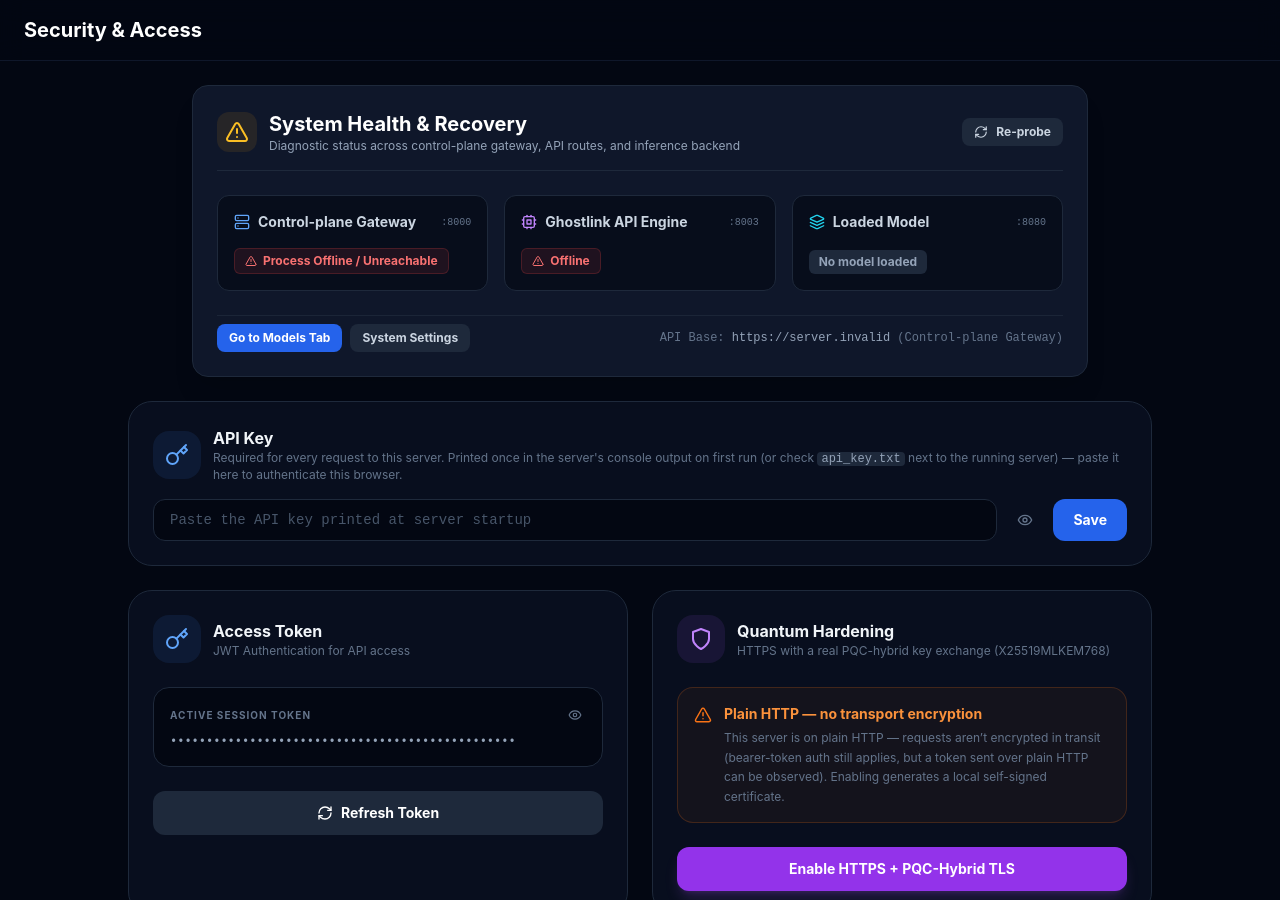
it: SecurityTab › shows a restart-required message rather than claiming PQC is already active
Click the button "Enable HTTPS + PQC-Hybrid TLS". click: click(902, 869)
box: left=677, top=847, right=1127, bottom=891
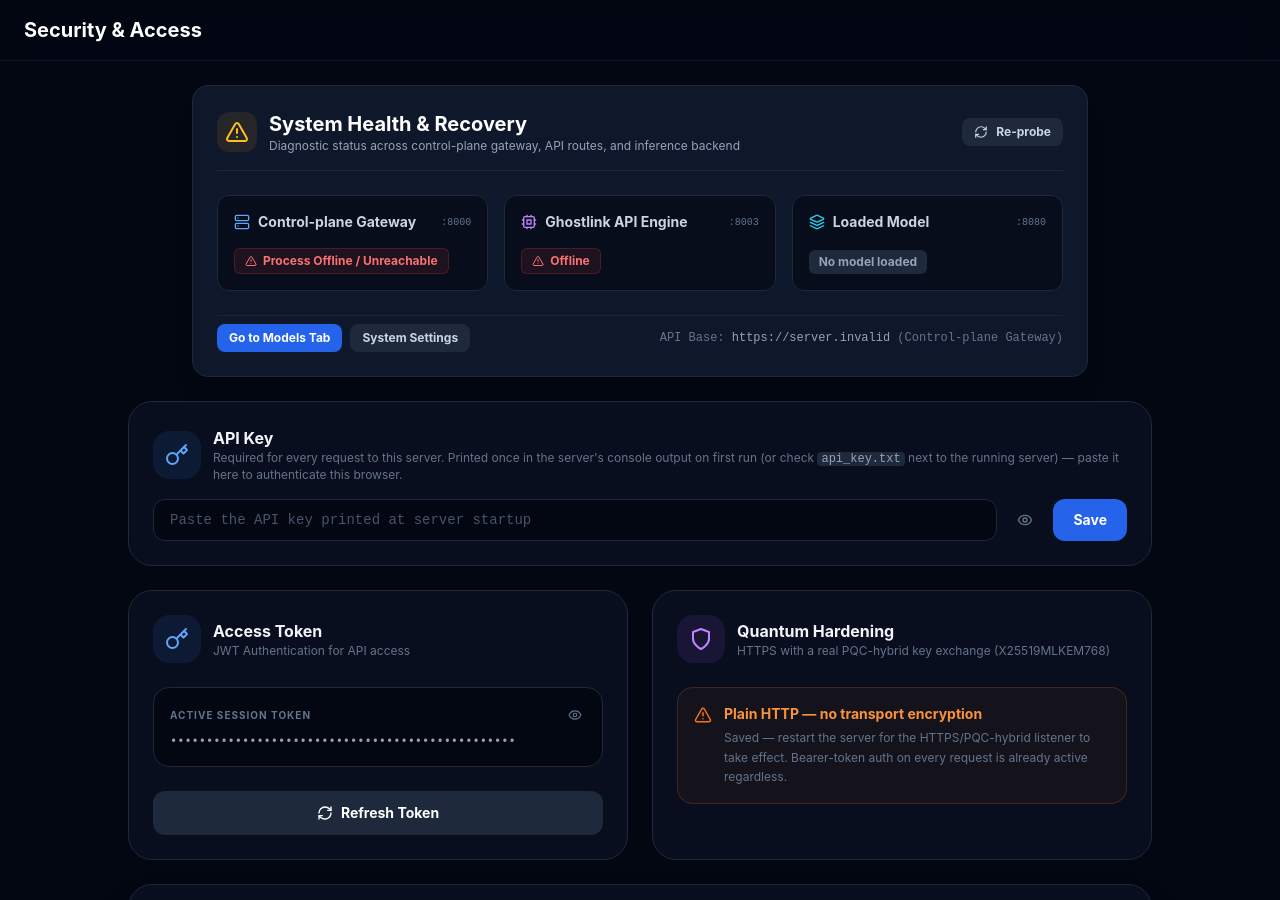
Expected: the text "restart the server" is shown, left=724, top=730, right=1090, bottom=784
